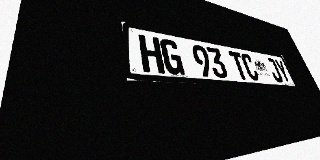3: (206, 46, 229, 78)
9: (190, 44, 214, 77)
C: (240, 53, 260, 81)
G: (159, 38, 185, 75)
H: (138, 34, 165, 74)
J: (265, 57, 284, 82)
T: (228, 51, 250, 80)
Y: (274, 59, 292, 83)
